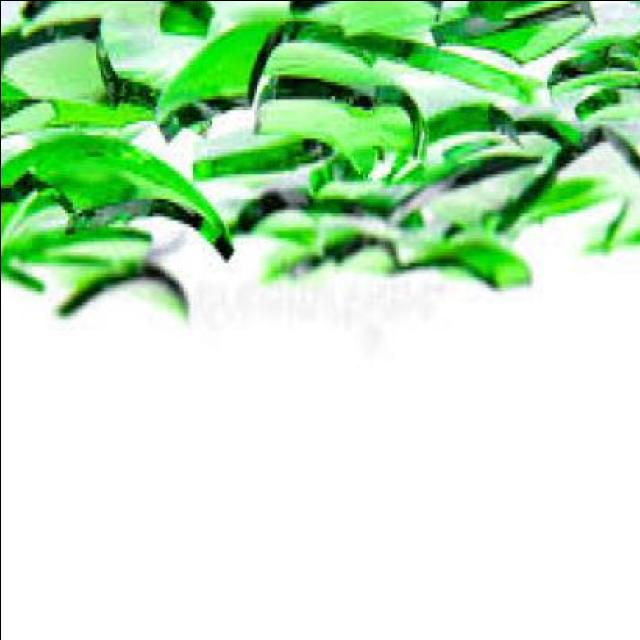kaca: (148, 20, 530, 148), (0, 140, 228, 258), (307, 106, 514, 218), (380, 124, 556, 238), (248, 88, 422, 184), (490, 134, 640, 244), (434, 0, 590, 70), (0, 225, 148, 294), (12, 0, 209, 49), (228, 198, 414, 248), (0, 24, 119, 102), (0, 81, 154, 141), (372, 244, 524, 296), (259, 238, 395, 294), (284, 0, 435, 46), (540, 42, 640, 109), (182, 142, 324, 188), (56, 276, 186, 322), (563, 85, 640, 135), (574, 205, 640, 262), (462, 0, 584, 28), (618, 0, 640, 17)
